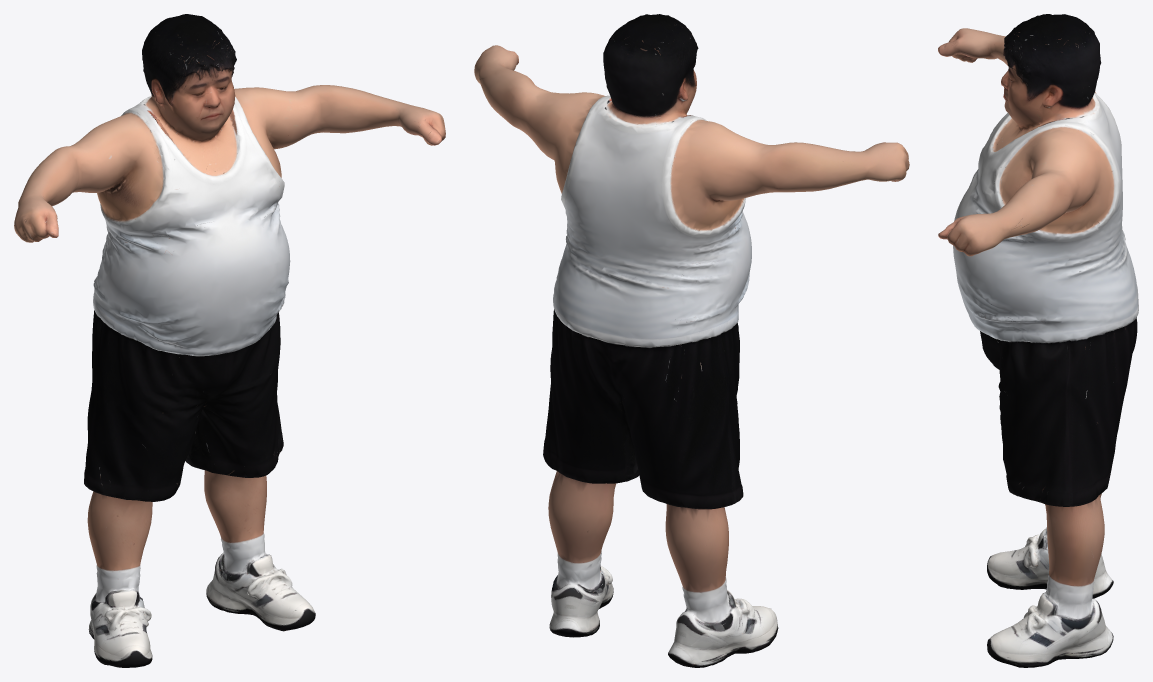
File: ozisan.glb
3 renders of one model, left to right at view 1: azimuth 30°, elevation 25°; view 2: azimuth 150°, elevation 25°; view 3: azimuth 270°, elevation 25°, orthographic.
Visible parts, largest first — view 1: Mesh1.0; view 2: Mesh1.0; view 3: Mesh1.0.
Part boxes in pixels (x1,y1,x2,y2): Mesh1.0: [14, 14, 445, 667]; Mesh1.0: [474, 14, 909, 667]; Mesh1.0: [938, 14, 1138, 667].
Bounding box in the file's own units: 1.25 × 1.7 × 0.5156.
1 material, 1 textured.
